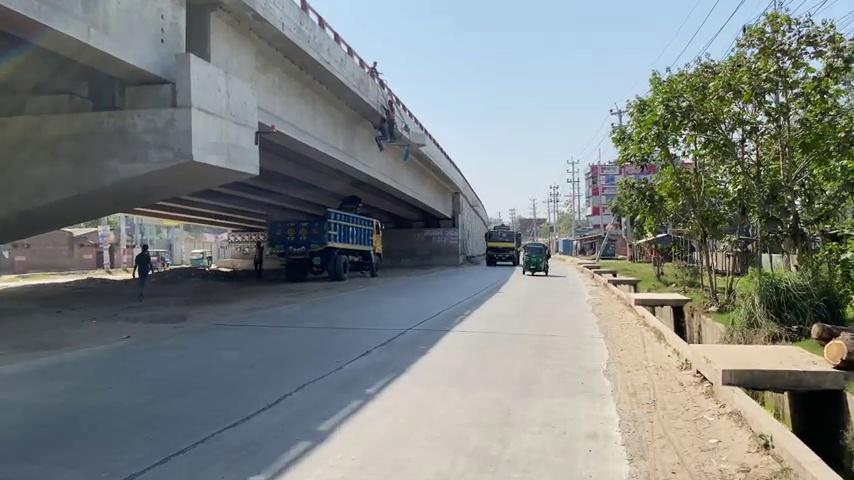Bench: (266, 205, 383, 281)
Car: (580, 258, 853, 478)
Curb: (521, 241, 550, 275)
Fallen-tree: (0, 0, 490, 258)
Fence: (132, 243, 153, 301), (253, 240, 263, 278)
Rickshaw: (484, 226, 520, 266)
